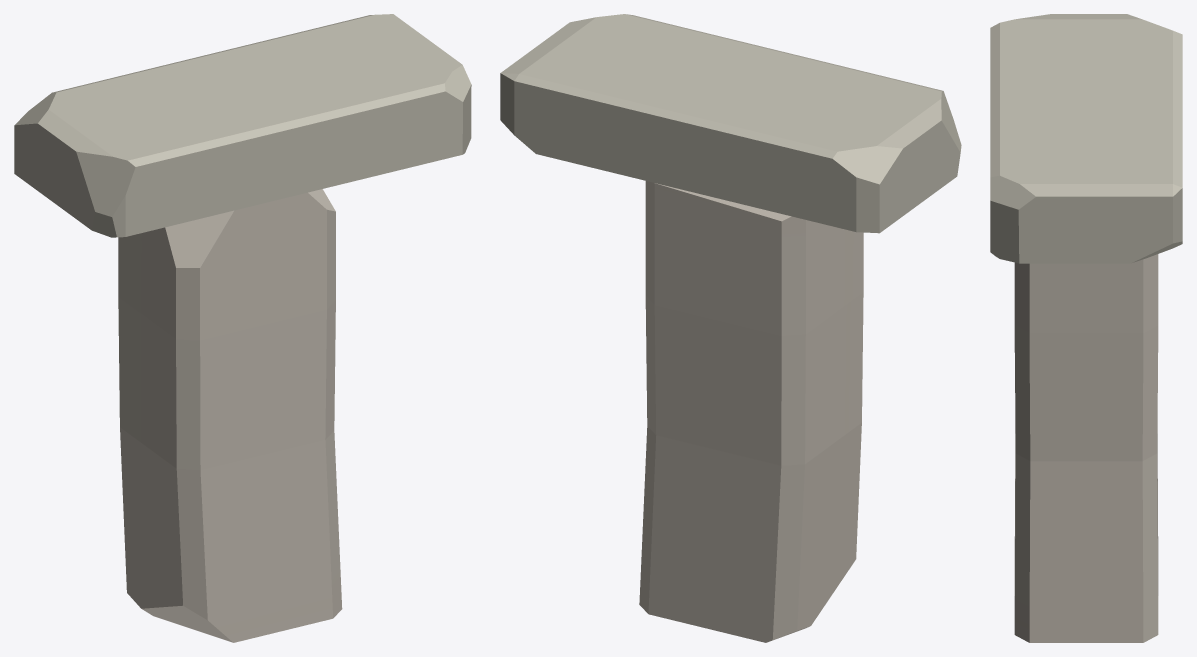
The model's file is Stonehenge_03.fbx.
3 renders of one model, left to right at view 1: azimuth 30°, elevation 25°; view 2: azimuth 150°, elevation 25°; view 3: azimuth 270°, elevation 25°, orthographic.
Visible parts, largest first — view 1: Stonehenge_03; view 2: Stonehenge_03; view 3: Stonehenge_03.
Part boxes in pixels (<box>): Stonehenge_03: <box>14,14,471,642</box>; Stonehenge_03: <box>500,14,961,642</box>; Stonehenge_03: <box>990,14,1182,642</box>.
Size of the model in its own units: 450 by 585 by 200.
